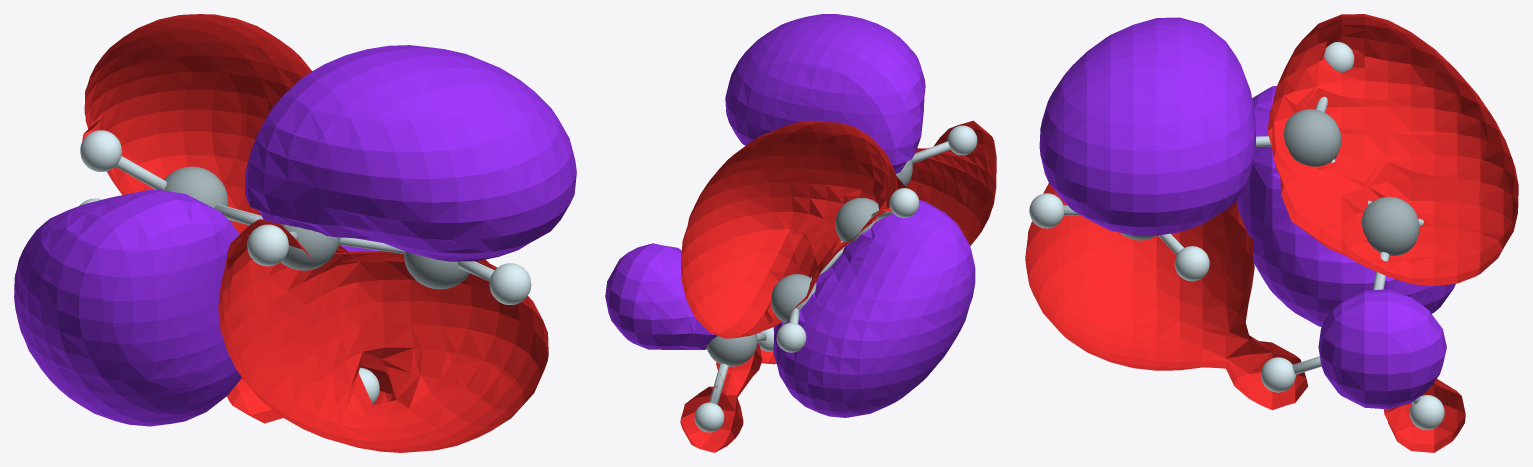
3 renders of one model, left to right at view 1: azimuth 30°, elevation 25°; view 2: azimuth 150°, elevation 25°; view 3: azimuth 270°, elevation 25°, orthographic. The views are drawn at different scales.
Parts seen in each view (by area): view 1: Renderer Node; view 2: Renderer Node; view 3: Renderer Node.
Boxes of the visible parts, x1,y1,x2,y2 form: Renderer Node: (14,14,576,452); Renderer Node: (605,14,996,452); Renderer Node: (1025,14,1518,452).
Bounding box in the file's own units: 4.97 × 5.05 × 5.59.
